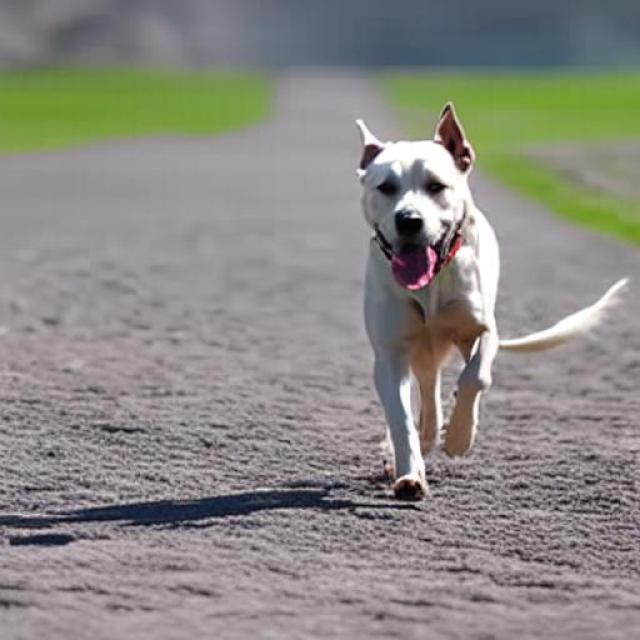Dog: (357, 100, 629, 500)
